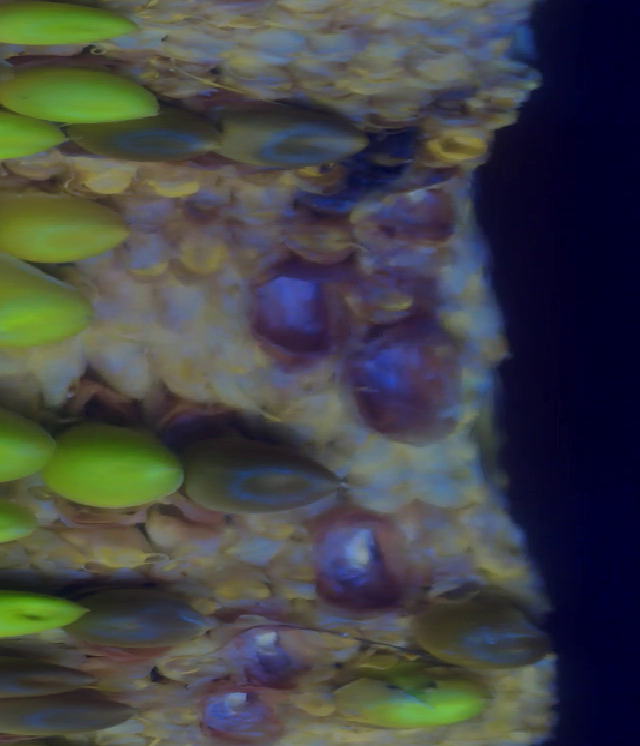fluorescent: (339, 658, 495, 735), (58, 425, 184, 513), (0, 187, 135, 263), (5, 62, 158, 121), (0, 265, 98, 354), (0, 1, 154, 47), (0, 589, 80, 641), (0, 107, 72, 161), (0, 403, 50, 473), (0, 492, 49, 540)
nonfluorescent: (196, 99, 379, 177), (187, 432, 353, 517), (420, 589, 548, 665), (64, 109, 220, 166), (81, 587, 211, 651), (0, 692, 141, 729), (0, 651, 105, 692)
